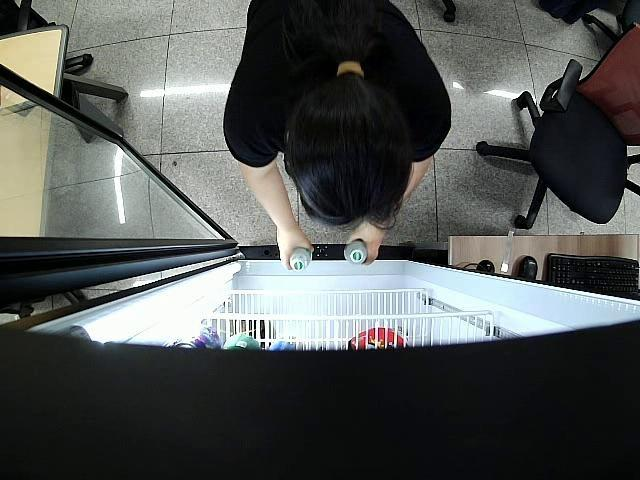18_trevi: (342, 238, 372, 268), (292, 250, 312, 277)
